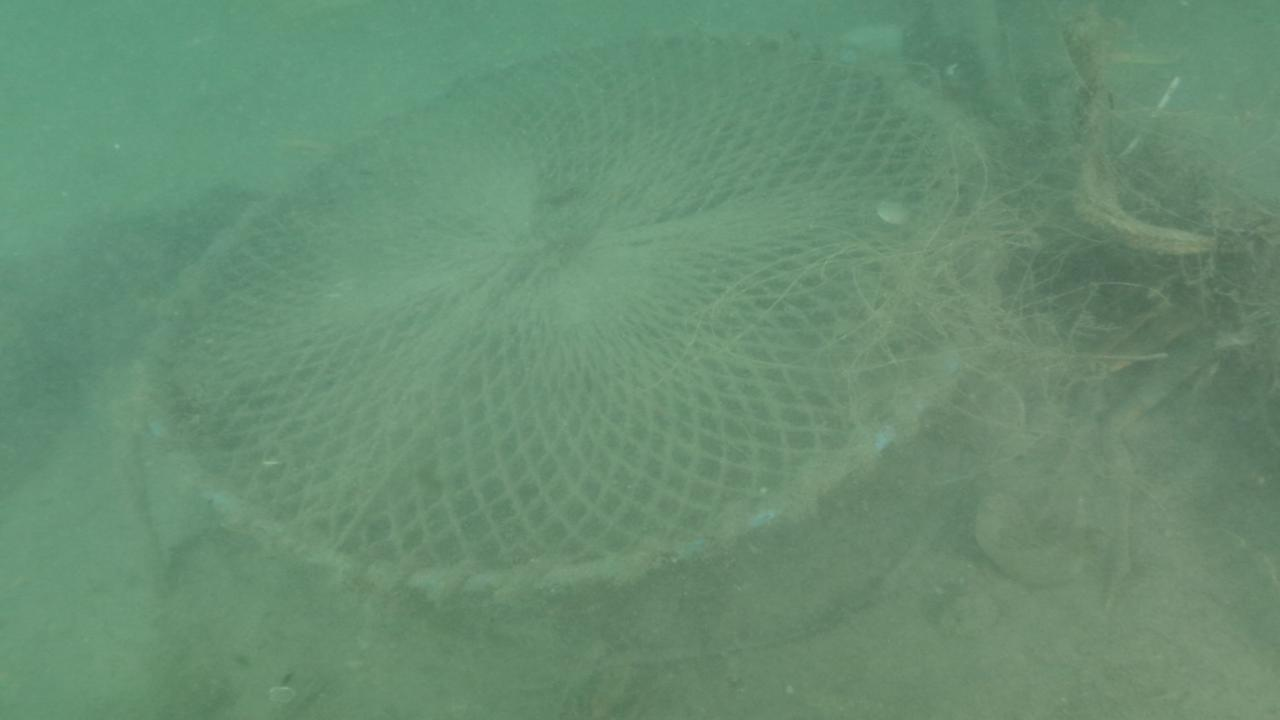circular fish trap: (127, 23, 1020, 607)
